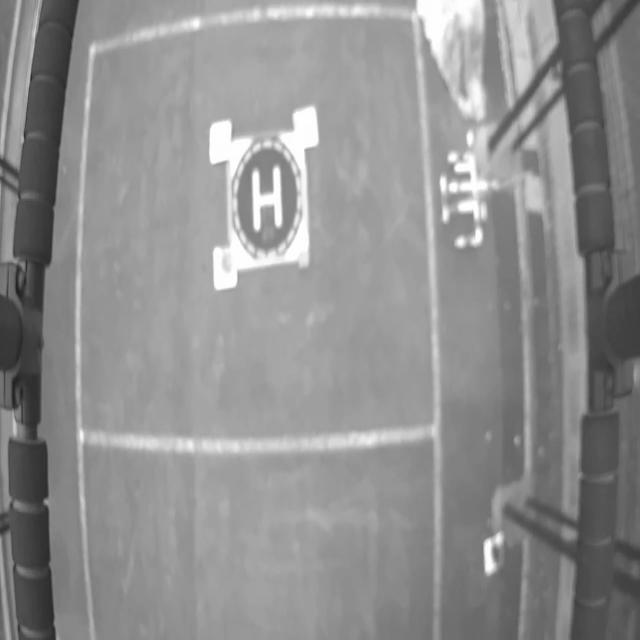Helipad: (252, 166, 283, 231)
